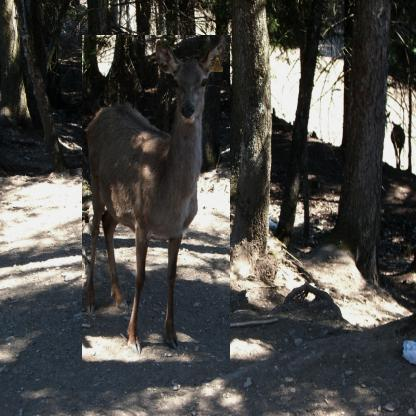Deer: (82, 35, 230, 365)
